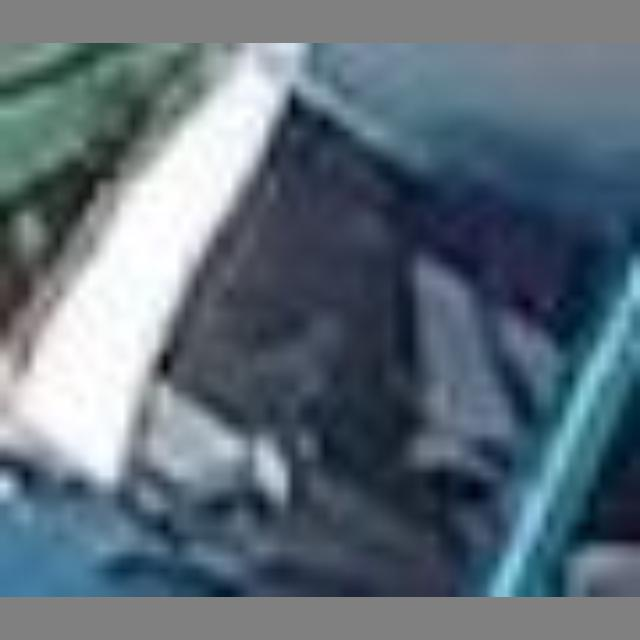pakai: (341, 192, 544, 470)
